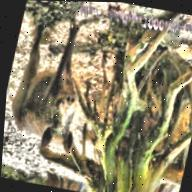boar: (2, 16, 100, 157)
